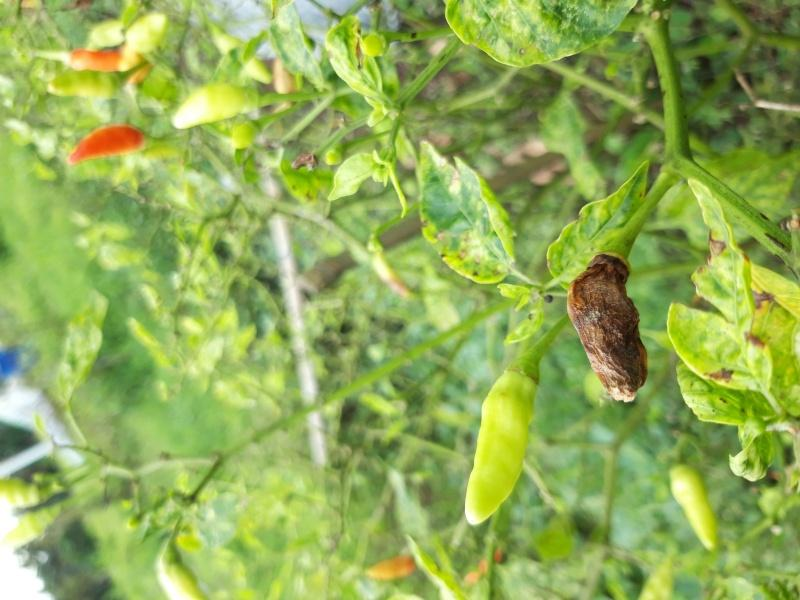antraknosa: (564, 264, 649, 403)
cabai_normal: (464, 372, 535, 524), (670, 464, 719, 553), (170, 84, 245, 129), (67, 125, 144, 165)
